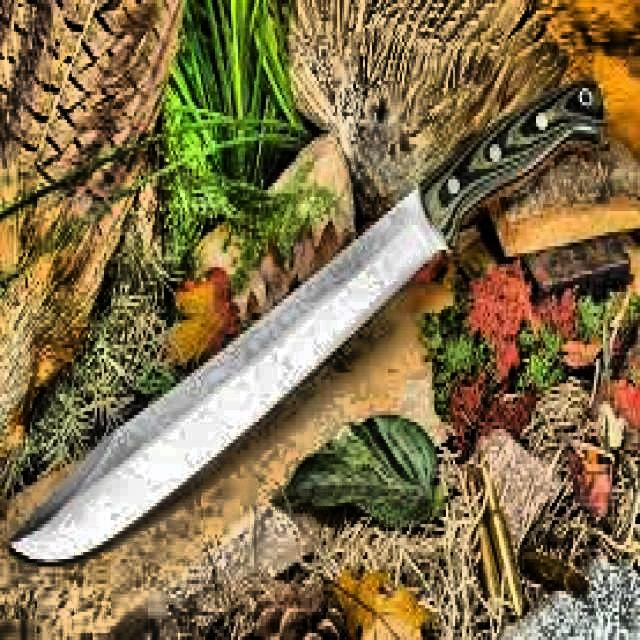knife: (6, 77, 609, 574)
